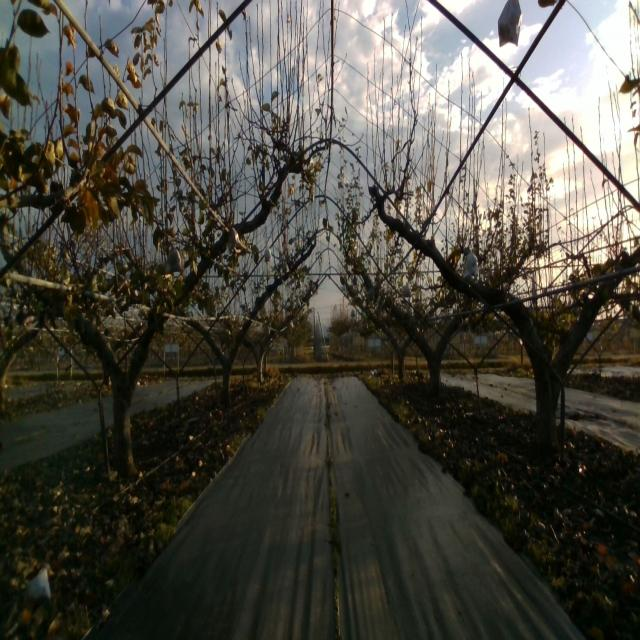pearbags: (497, 0, 522, 46), (164, 247, 185, 276), (462, 252, 480, 280), (227, 228, 240, 254)
